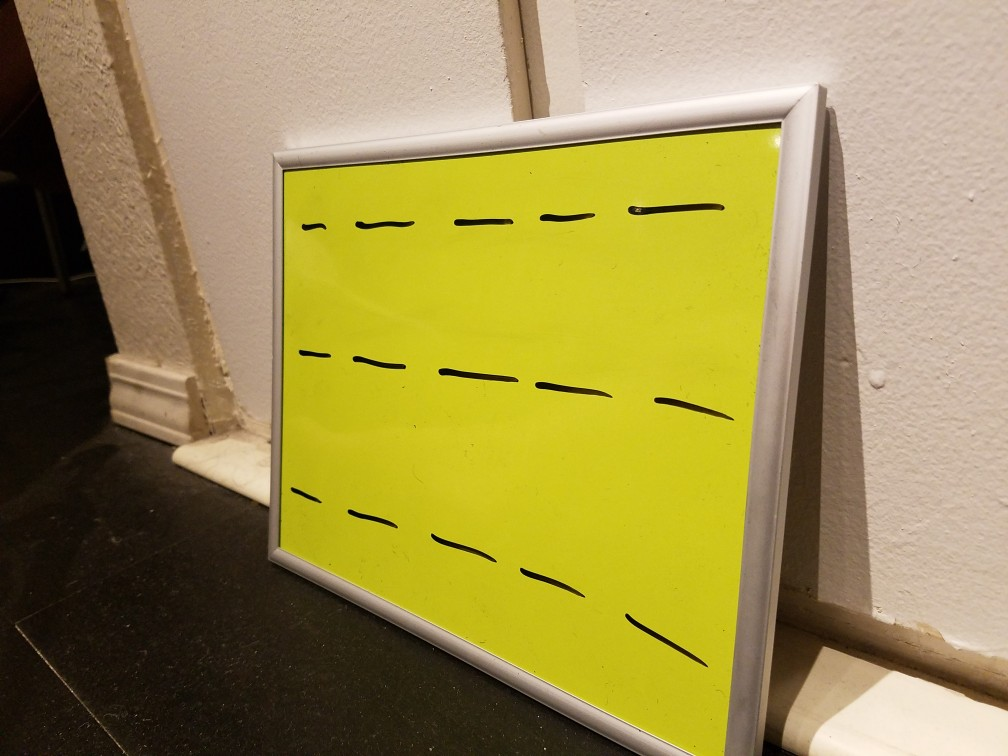-: (616, 599, 718, 681), (615, 187, 736, 235), (639, 380, 741, 435), (512, 559, 595, 610), (421, 526, 503, 574), (529, 370, 617, 412), (438, 354, 523, 392), (350, 338, 411, 386), (344, 498, 409, 539), (536, 201, 605, 235), (346, 213, 426, 241), (441, 212, 523, 236), (286, 474, 328, 510), (293, 339, 334, 370), (291, 210, 332, 239)
